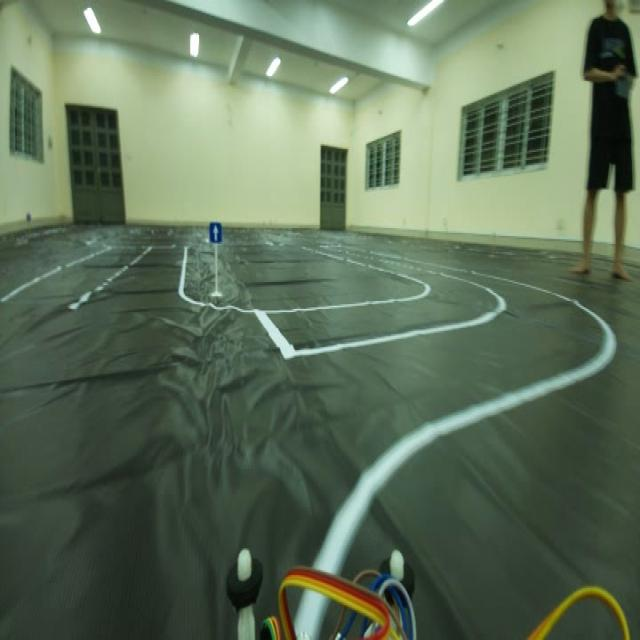onewayroad: (206, 219, 228, 251)
